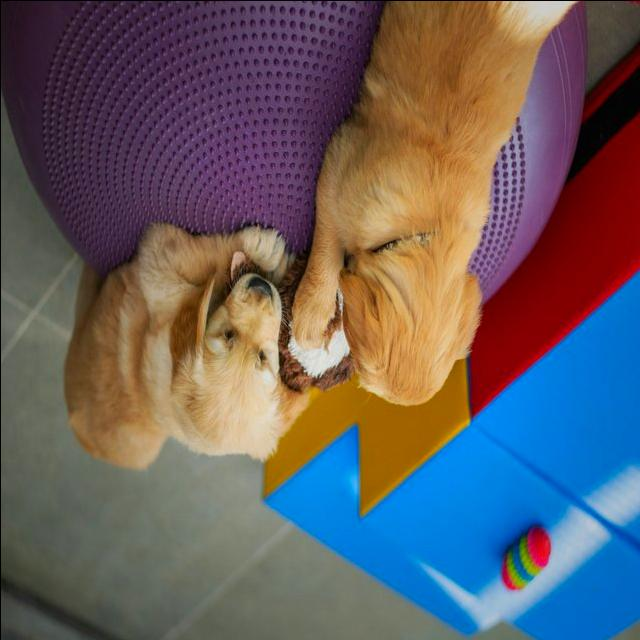retriever: (288, 2, 578, 407), (61, 221, 311, 471)
